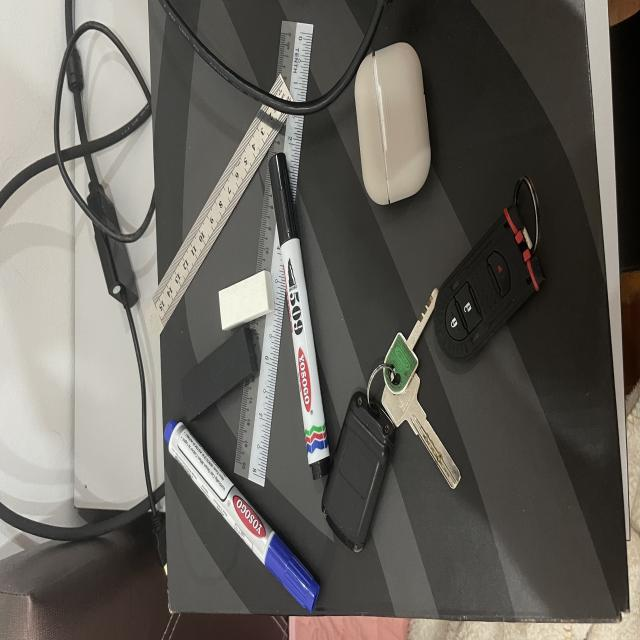eraser: (182, 326, 258, 421), (219, 270, 274, 330)
marker: (164, 420, 319, 612), (269, 153, 329, 479)
ruler: (145, 105, 287, 337), (234, 115, 303, 486), (278, 21, 313, 101), (270, 74, 292, 100)
